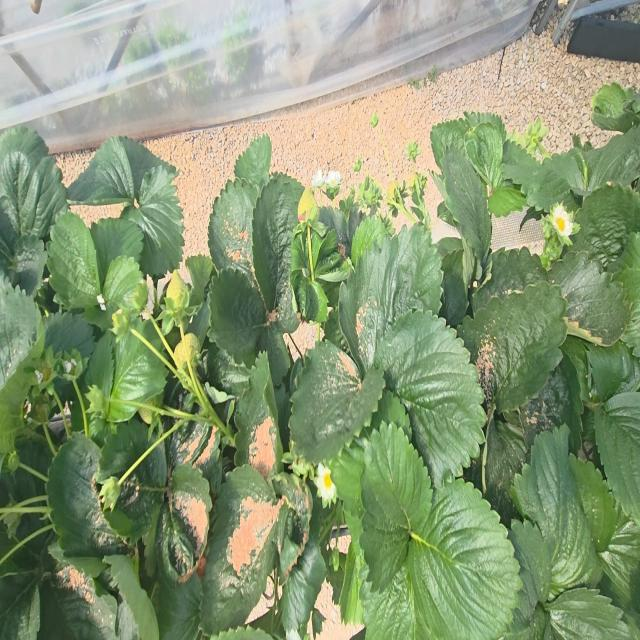Flowers: (315, 463, 336, 507), (548, 204, 573, 237), (325, 171, 341, 200), (311, 170, 325, 187), (23, 400, 31, 419), (63, 361, 73, 373)
Leaves: (375, 311, 485, 485), (409, 479, 521, 639), (515, 425, 601, 595), (201, 465, 288, 633), (339, 229, 441, 372), (458, 281, 567, 414), (361, 421, 432, 590), (290, 341, 384, 463), (47, 433, 130, 559), (95, 417, 167, 545), (252, 173, 305, 332), (0, 127, 66, 248), (549, 249, 630, 344), (68, 136, 177, 205), (121, 166, 184, 277), (545, 126, 640, 196), (156, 462, 212, 578), (442, 146, 491, 267), (595, 393, 640, 524), (520, 357, 583, 450), (573, 184, 640, 271), (38, 566, 117, 639), (210, 268, 267, 367), (208, 178, 257, 289), (48, 210, 102, 308), (235, 354, 277, 479), (508, 520, 552, 632), (0, 271, 41, 389), (502, 140, 570, 210), (83, 256, 147, 329), (570, 455, 618, 552), (485, 420, 529, 525), (280, 532, 326, 631), (545, 587, 632, 639), (360, 564, 415, 639), (112, 331, 168, 402), (331, 439, 365, 554), (156, 571, 203, 639), (587, 342, 640, 400), (464, 121, 503, 195), (90, 219, 144, 272), (0, 236, 47, 295), (0, 571, 40, 639), (591, 82, 640, 133), (234, 134, 271, 194), (45, 312, 94, 357), (339, 540, 364, 624), (351, 215, 389, 267), (85, 332, 114, 395), (266, 321, 290, 386), (320, 206, 350, 255), (185, 254, 213, 300), (136, 321, 164, 353), (116, 600, 138, 639)
Strawberries: (387, 180, 417, 222), (173, 333, 199, 379), (410, 172, 430, 229), (520, 117, 549, 152), (99, 476, 120, 511), (166, 270, 187, 305), (298, 188, 317, 222), (138, 397, 161, 425), (112, 308, 130, 341), (129, 280, 148, 311), (35, 364, 51, 385), (405, 141, 421, 162)
